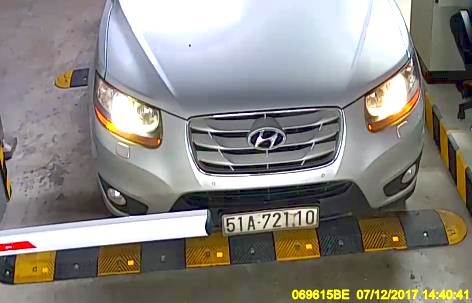plate: (218, 206, 328, 234)
